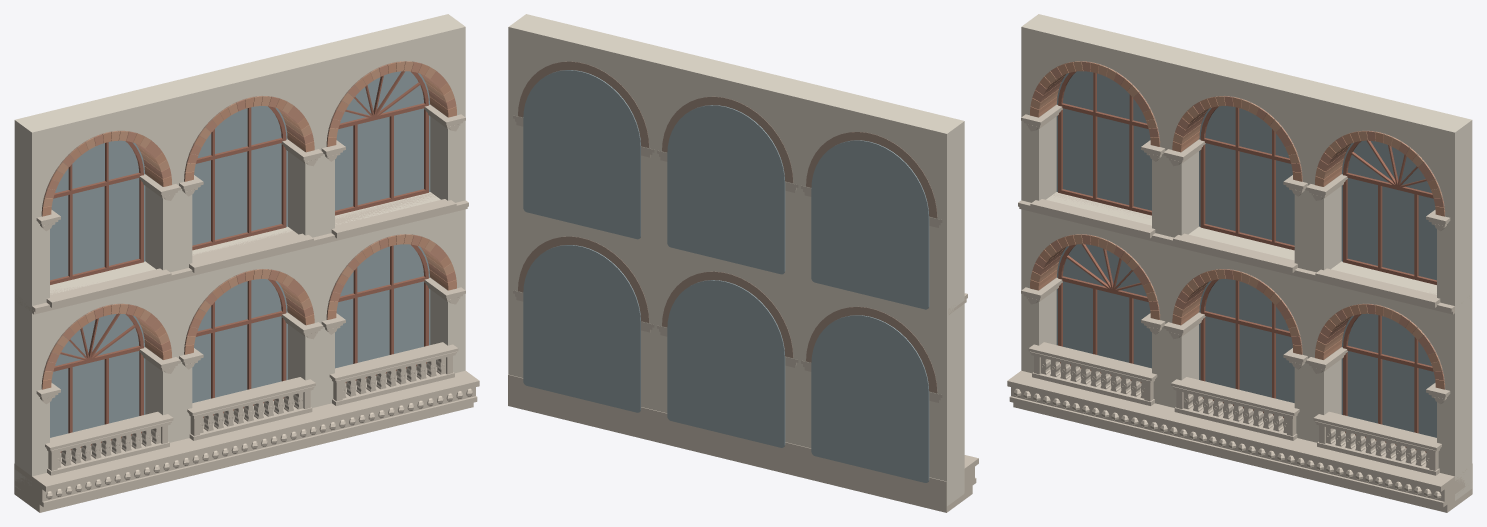
The model's file is huangpu-qianxin-building-historic-front-lod.glb.
The picture shows the model from 3 angles, left to right: view 1: azimuth 30°, elevation 25°; view 2: azimuth 150°, elevation 25°; view 3: azimuth 330°, elevation 25°; orthographic projection.
Visible parts, largest first — view 1: 谦信大楼江西中路中央六券窗廊; view 2: 谦信大楼江西中路中央六券窗廊; view 3: 谦信大楼江西中路中央六券窗廊.
Boxes of the visible parts, <box> form: 谦信大楼江西中路中央六券窗廊: <box>14,14,479,512</box>; 谦信大楼江西中路中央六券窗廊: <box>508,14,978,512</box>; 谦信大楼江西中路中央六券窗廊: <box>1007,14,1472,512</box>.
Size of the model in its own units: 9.68 by 7.99 by 1.28.
